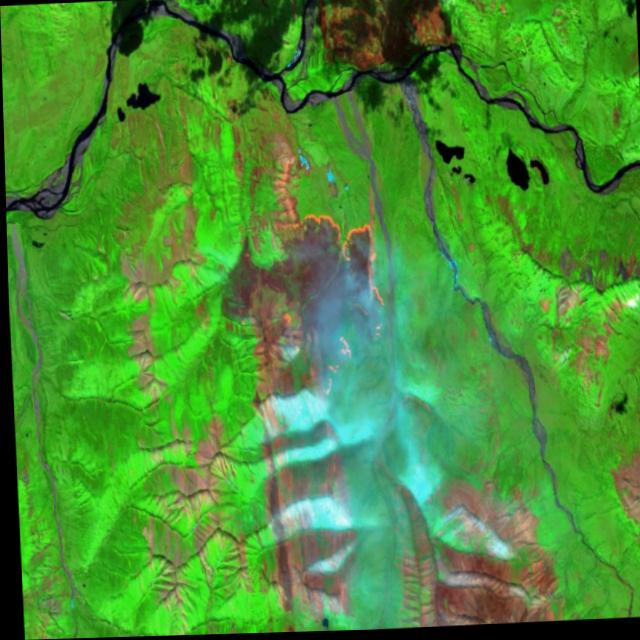fire: (284, 193, 396, 409)
